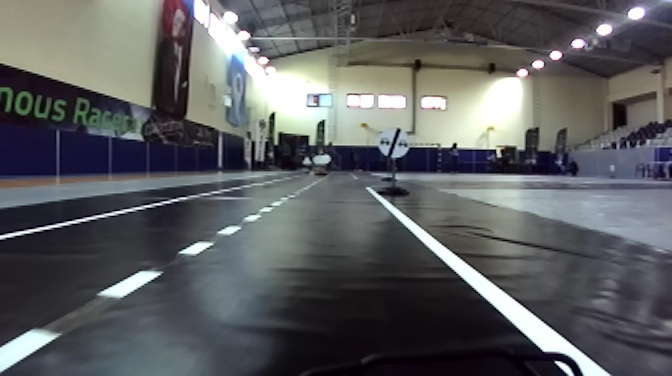sollama_serbest: (378, 128, 410, 159)
